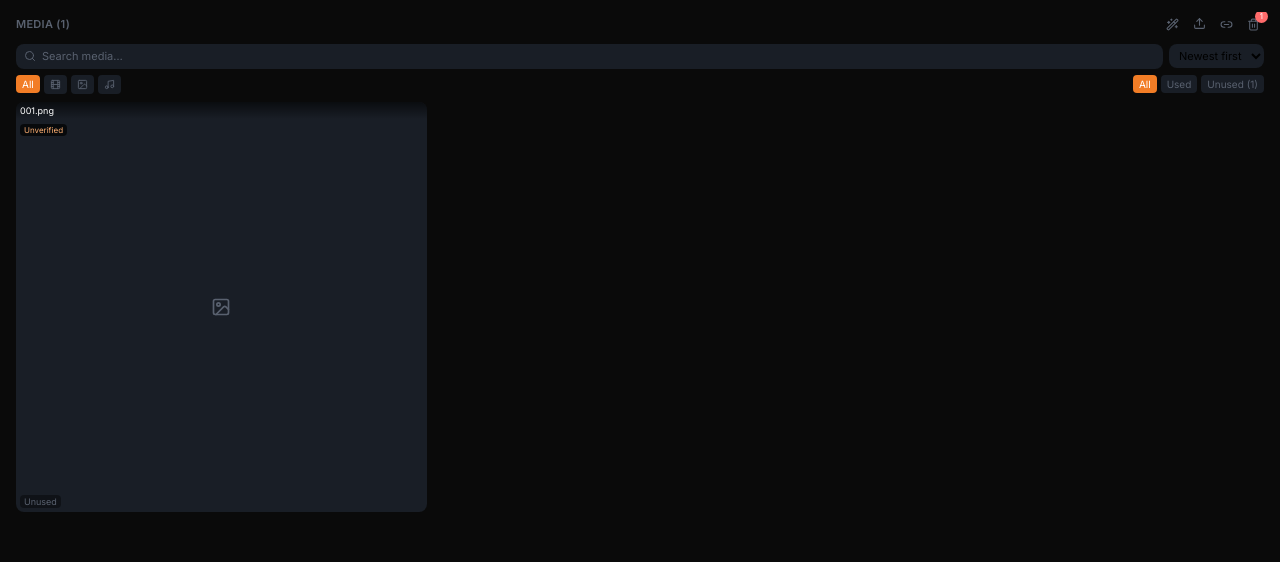
Media block — Match media to scenes button (Unit 2) › U9: the wand result is shown IN the block (N matched / M unmatched / conflicts), dismissible
This screenshot has width=1280, height=562.
Step 1. Click the button with test id "media-block-match" → (1172, 24), box [1162,14,1183,34]
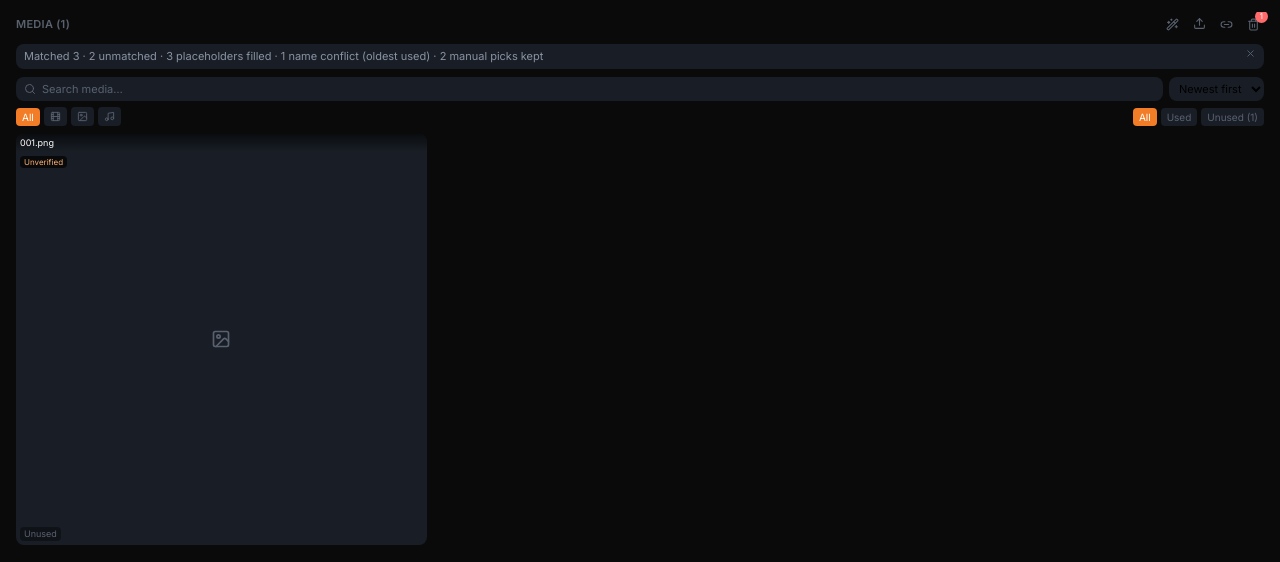
Expected: the message with test id "media-block-match-summary" shows "Matched 3 · 2 unmatched · 3 placeholders filled · 1 name conflict (oldest used) · 2 manual picks kept", [24,49,543,63]
Step 2. Click the button named "Dismiss match result" → (1250, 54), box [1245,48,1256,59]
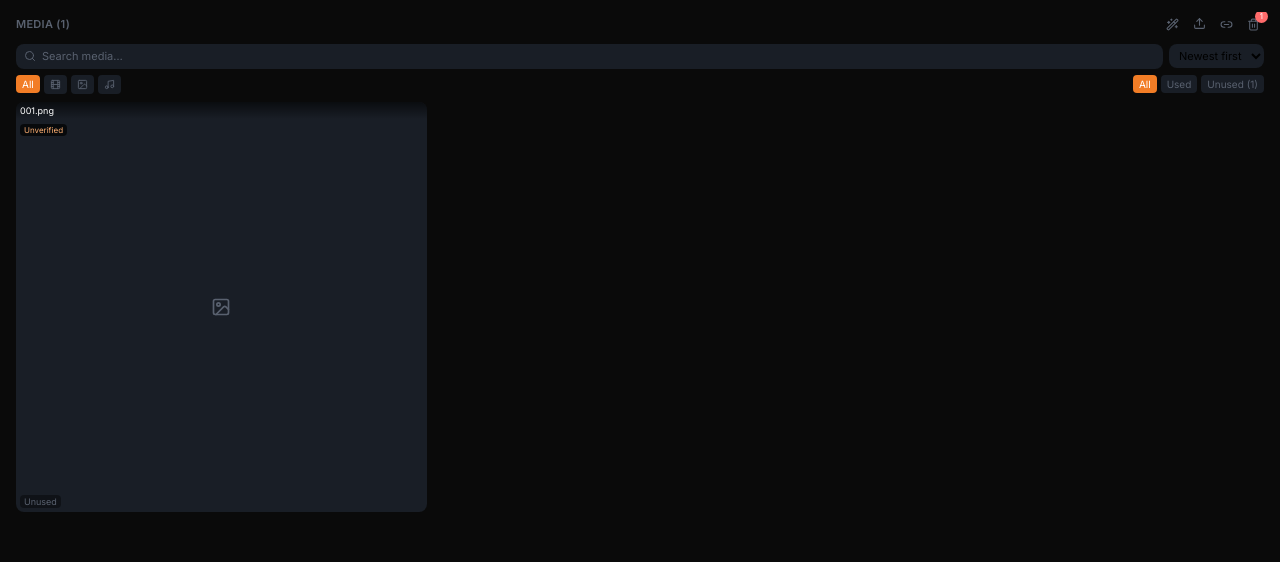
Expected: the message with test id "media-block-match-summary" is gone
